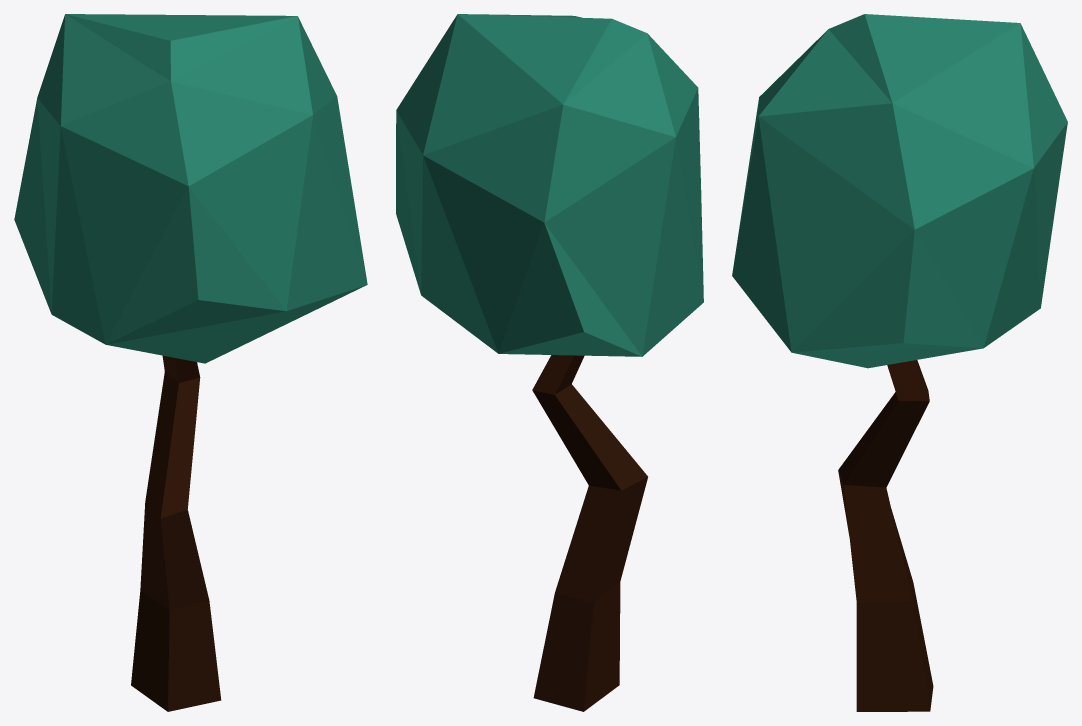
The model's file is tree 1.1.FBX.
The picture shows the model from 3 angles, left to right: view 1: azimuth 30°, elevation 25°; view 2: azimuth 150°, elevation 25°; view 3: azimuth 270°, elevation 25°; orthographic projection.
Parts seen in each view (by area): view 1: GeoSphere001, Box001; view 2: GeoSphere001, Box001; view 3: GeoSphere001, Box001.
Boxes of the visible parts, box(x1,y1,x2,y2) form: GeoSphere001: box(14, 14, 367, 363); Box001: box(131, 355, 221, 711); GeoSphere001: box(396, 14, 703, 356); Box001: box(532, 355, 647, 711); GeoSphere001: box(732, 14, 1067, 368); Box001: box(838, 360, 933, 711).
Bounding box in the file's own units: 32.67 × 73.45 × 33.13.
